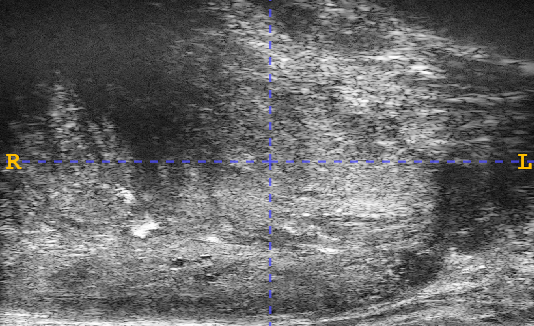calcifications: (62, 167, 204, 264)
